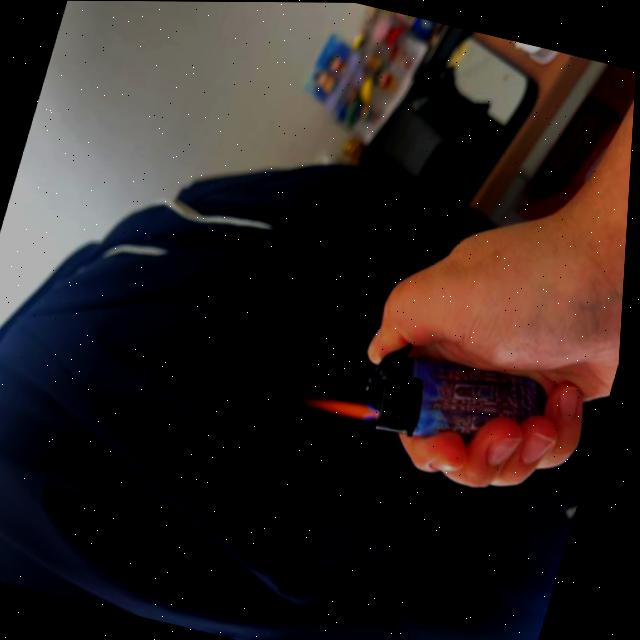Fire: (302, 385, 382, 427)
